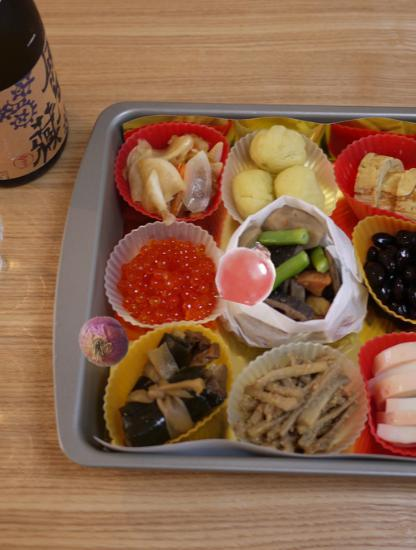Onion: (77, 315, 131, 369)
Redcurrant: (215, 240, 279, 304)
